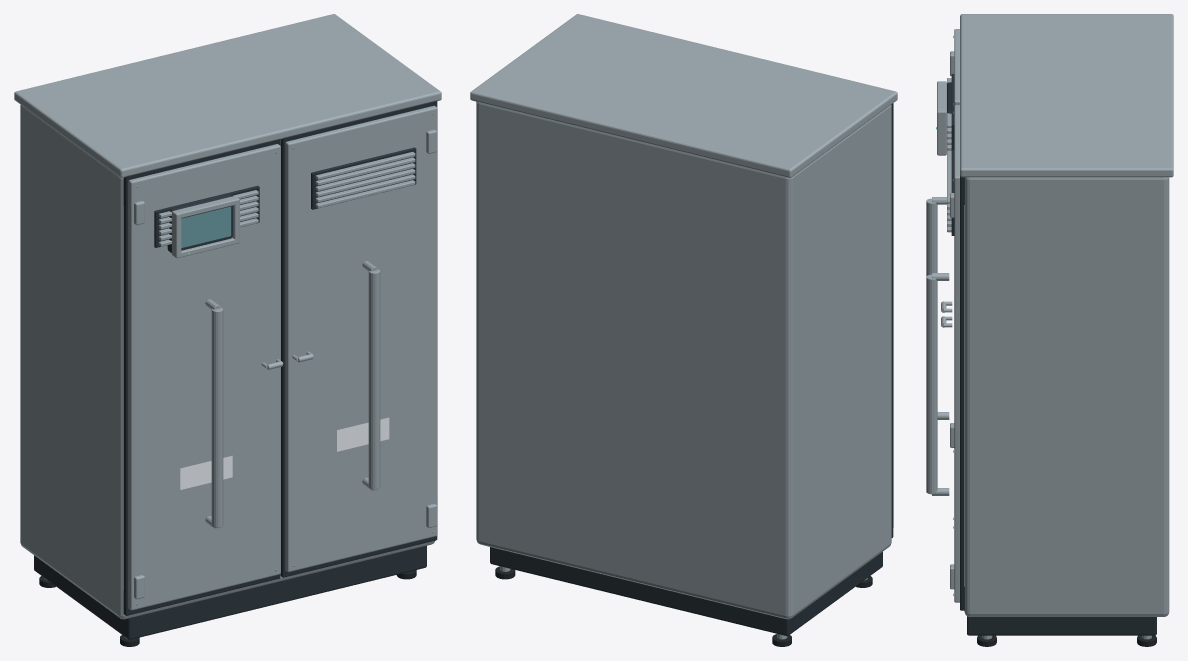
The model's file is SF_ColdStorage.fbx.
The picture shows the model from 3 angles, left to right: view 1: azimuth 30°, elevation 25°; view 2: azimuth 150°, elevation 25°; view 3: azimuth 270°, elevation 25°; orthographic projection.
Parts seen in each view (by area): view 1: SF_ColdStorage; view 2: SF_ColdStorage; view 3: SF_ColdStorage.
Part boxes in pixels (x1=…): SF_ColdStorage: x1=14, y1=14, x2=441, y2=646; SF_ColdStorage: x1=470, y1=14, x2=897, y2=646; SF_ColdStorage: x1=926, y1=14, x2=1173, y2=646.
Bounding box in the file's own units: 147 × 214 × 99.05.
